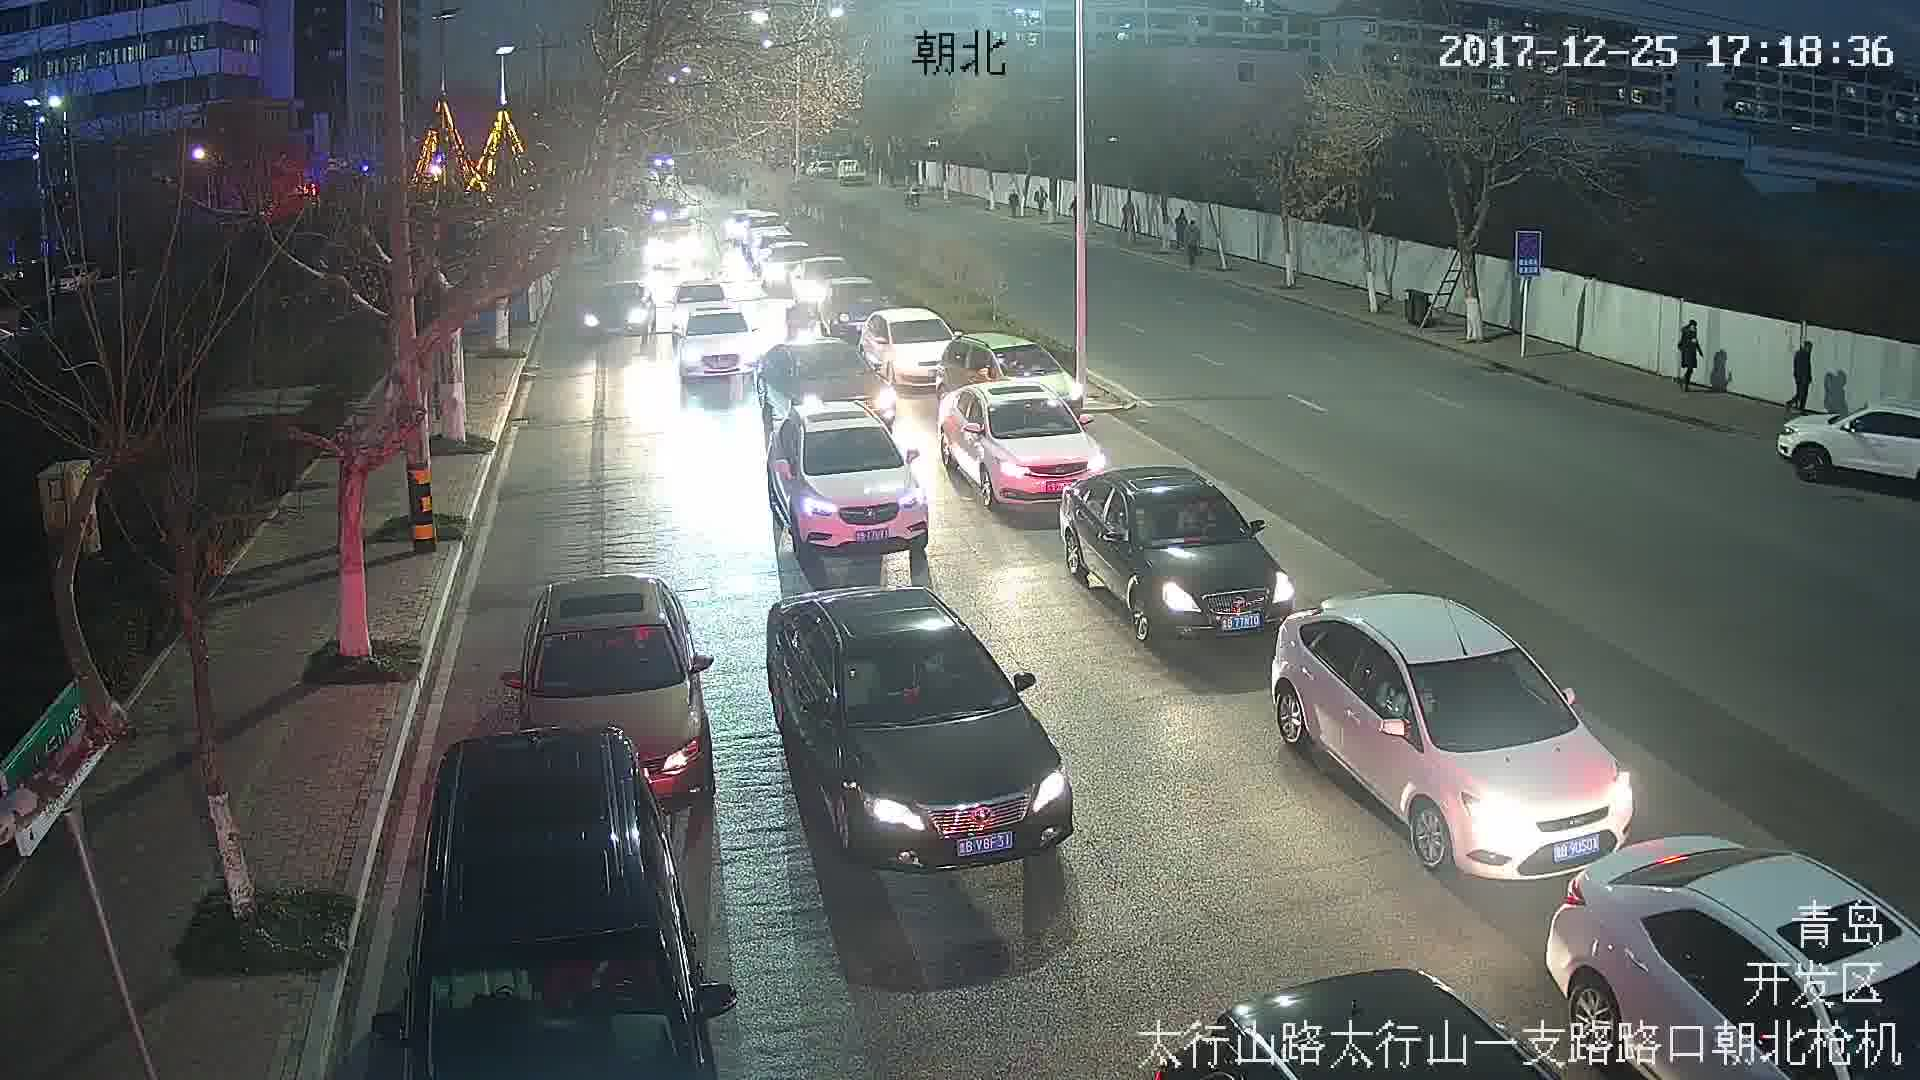car: (1268, 587, 1627, 885), (763, 591, 1074, 867), (520, 573, 714, 795), (1062, 467, 1292, 646), (766, 399, 935, 555), (938, 371, 1109, 510), (674, 310, 757, 378), (575, 282, 662, 341)
person: (1787, 341, 1816, 416), (1673, 317, 1702, 388)
